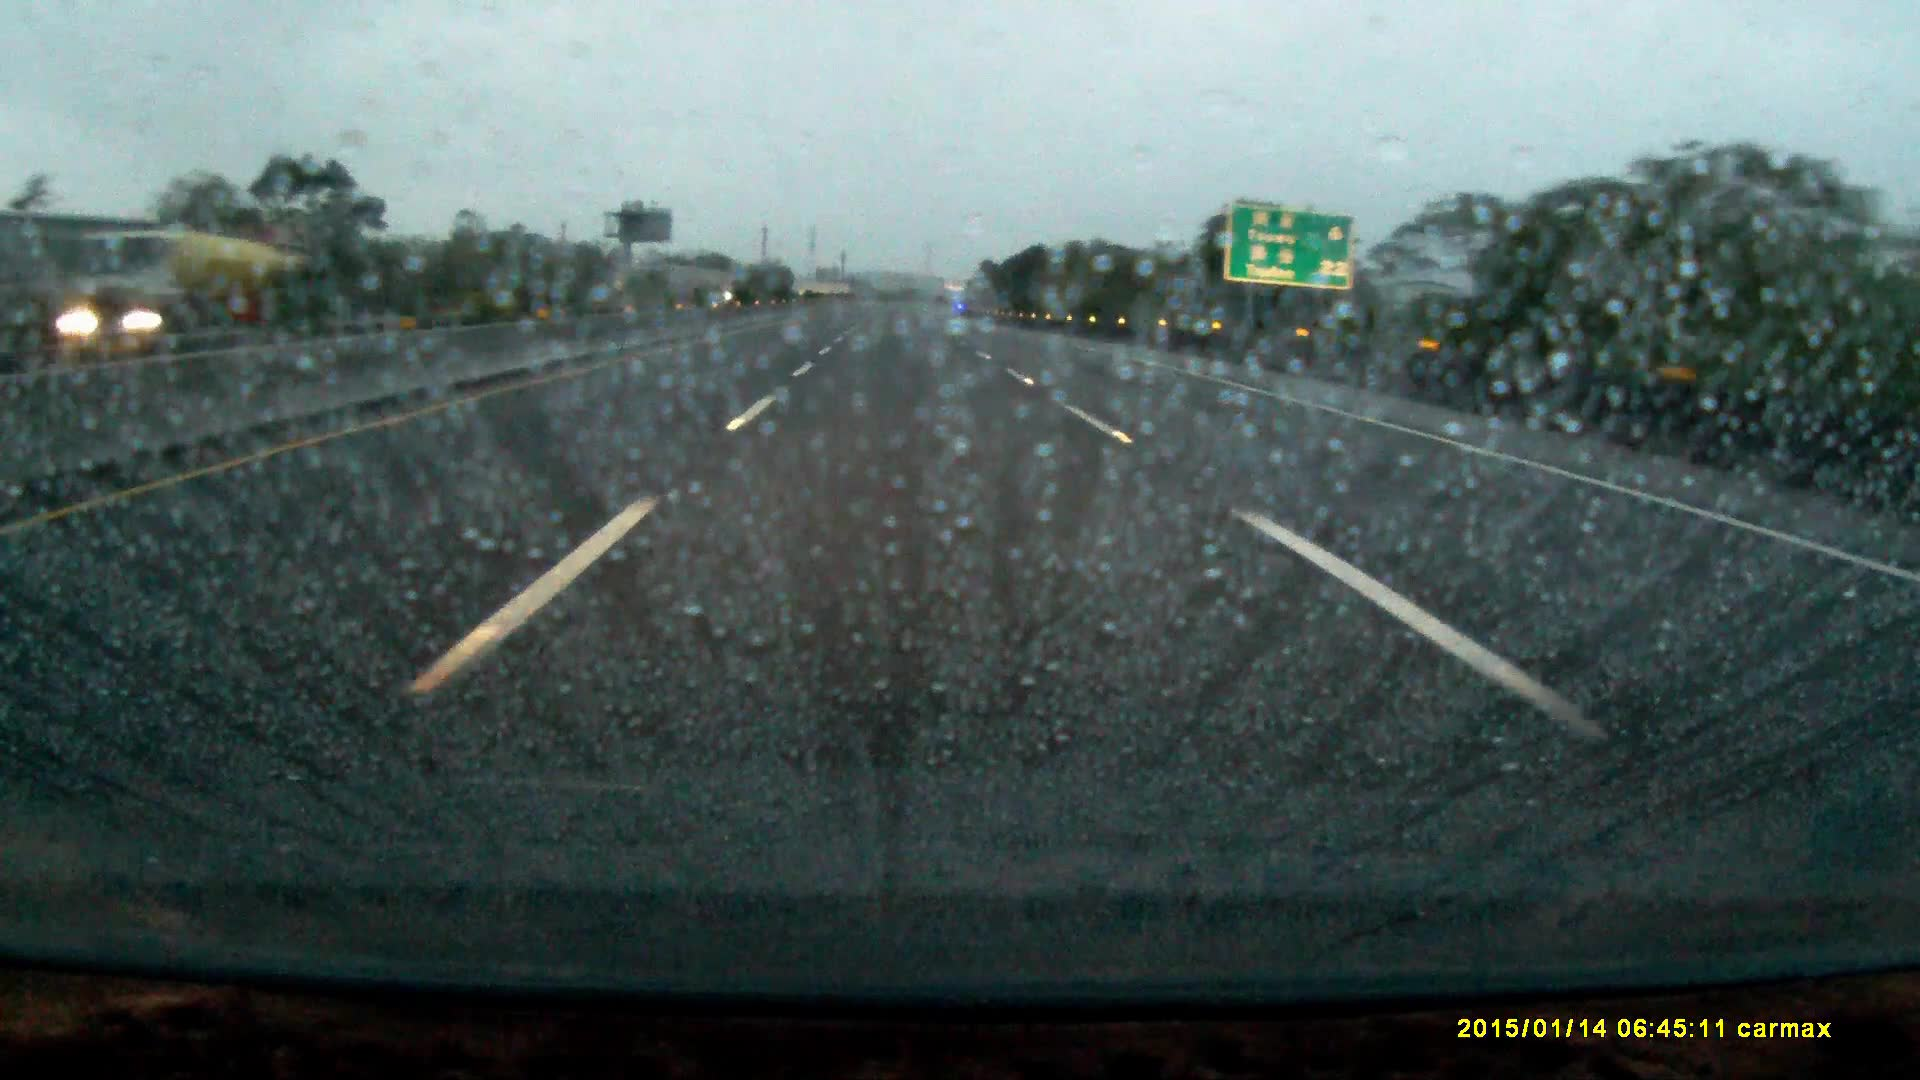vehicle: (71, 236, 297, 327), (55, 291, 193, 365)
